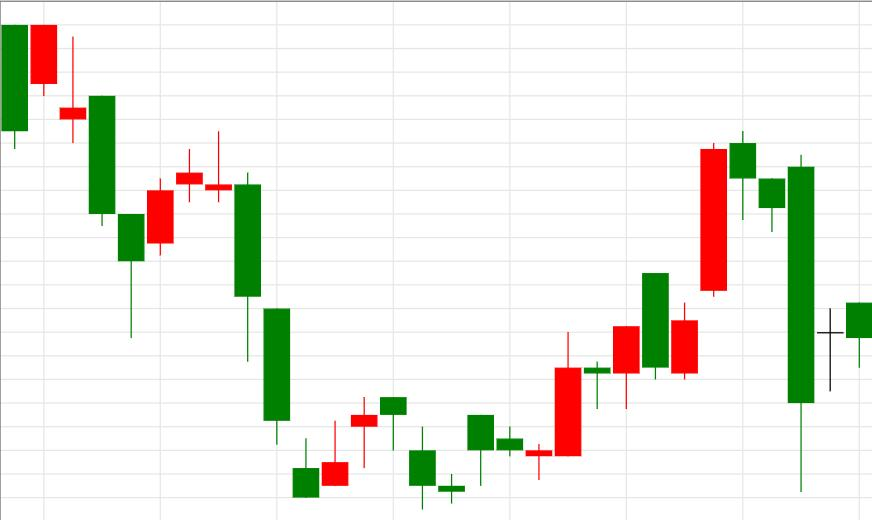hammer_rise: (2, 25, 145, 338)
